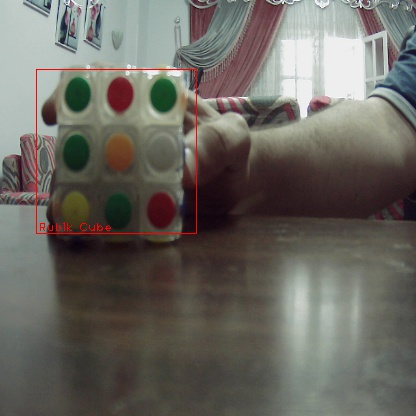Rubix Cube: (60, 61, 183, 241)
